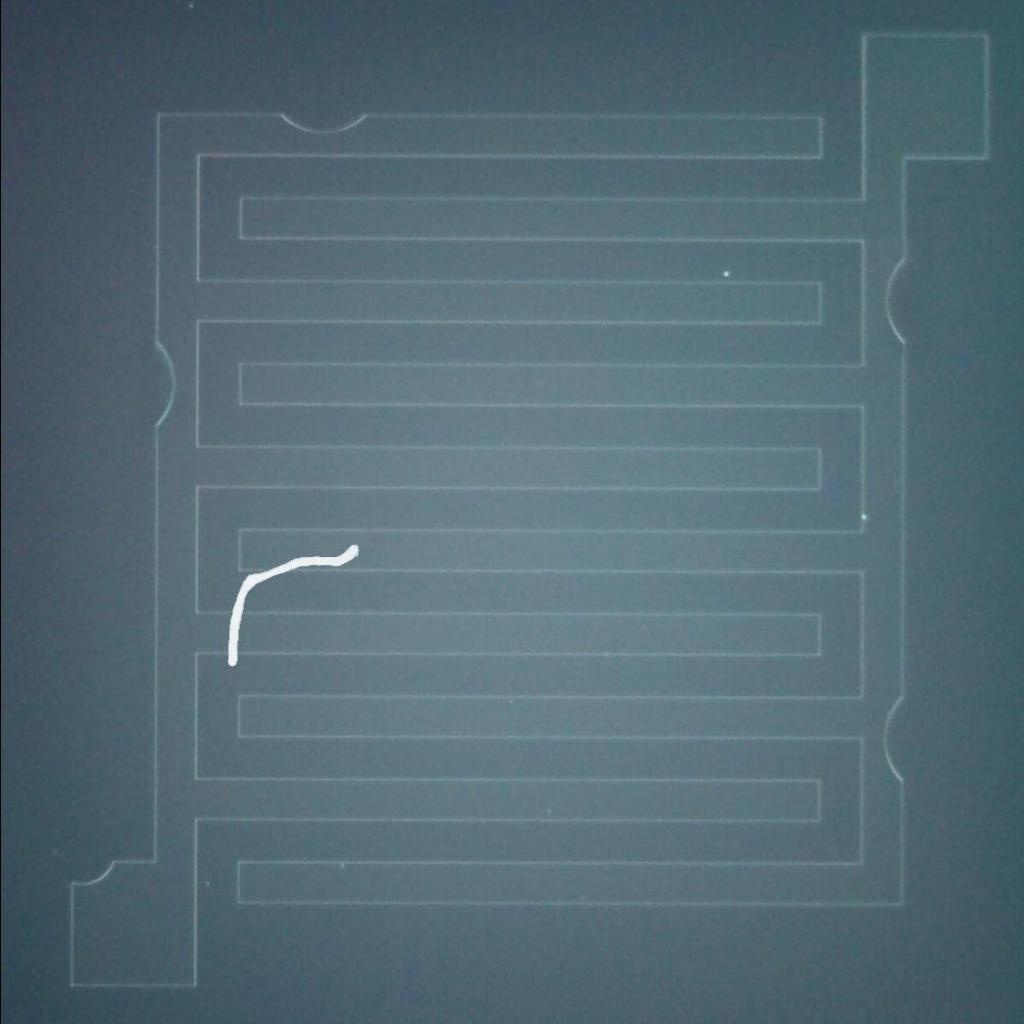curve circuit: (878, 241, 924, 358), (137, 329, 181, 435), (265, 104, 377, 144), (874, 680, 912, 794), (63, 850, 124, 898)
dot: (709, 262, 739, 282)
line: (217, 538, 366, 680)
